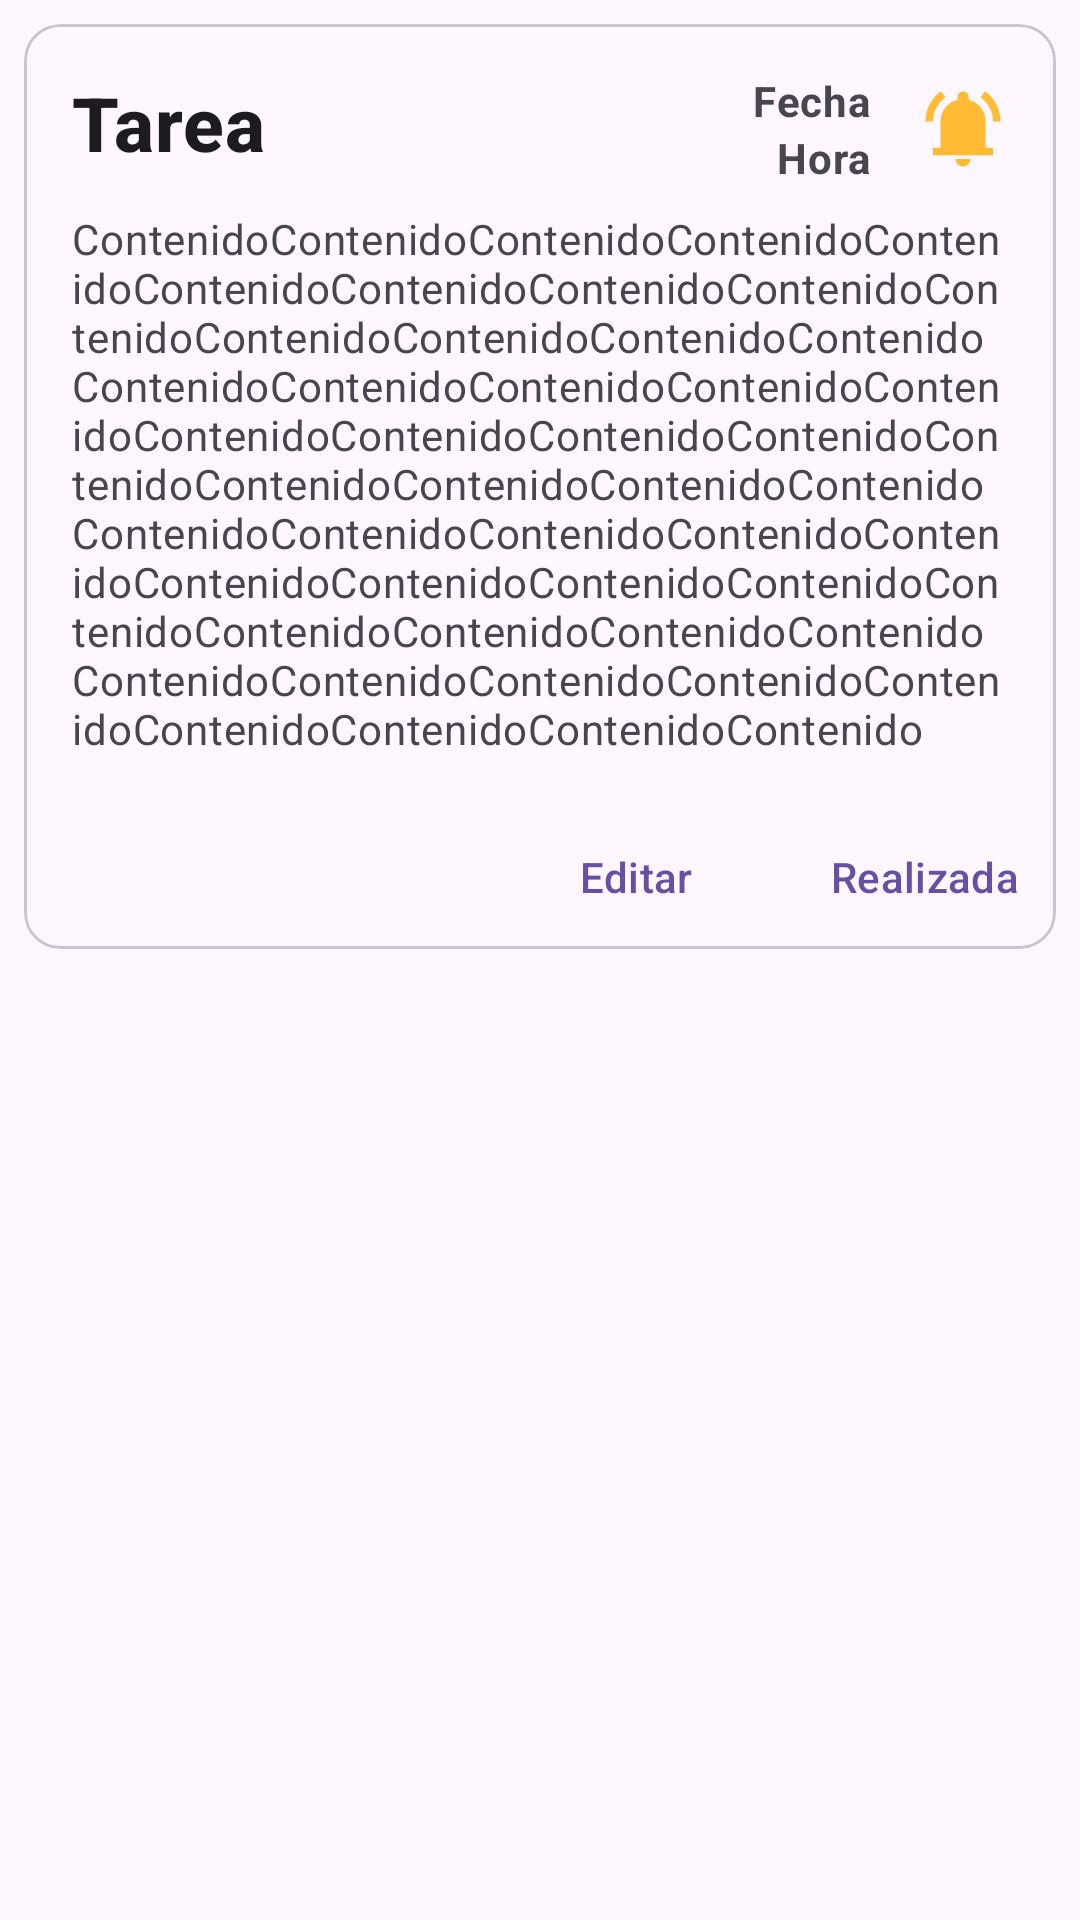

Icons on this 1080w x 1920h Android screen, each with the point to tap as [x,y]:
notification: [963,129]
